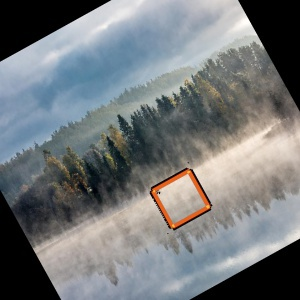square: (146, 166, 214, 230)
